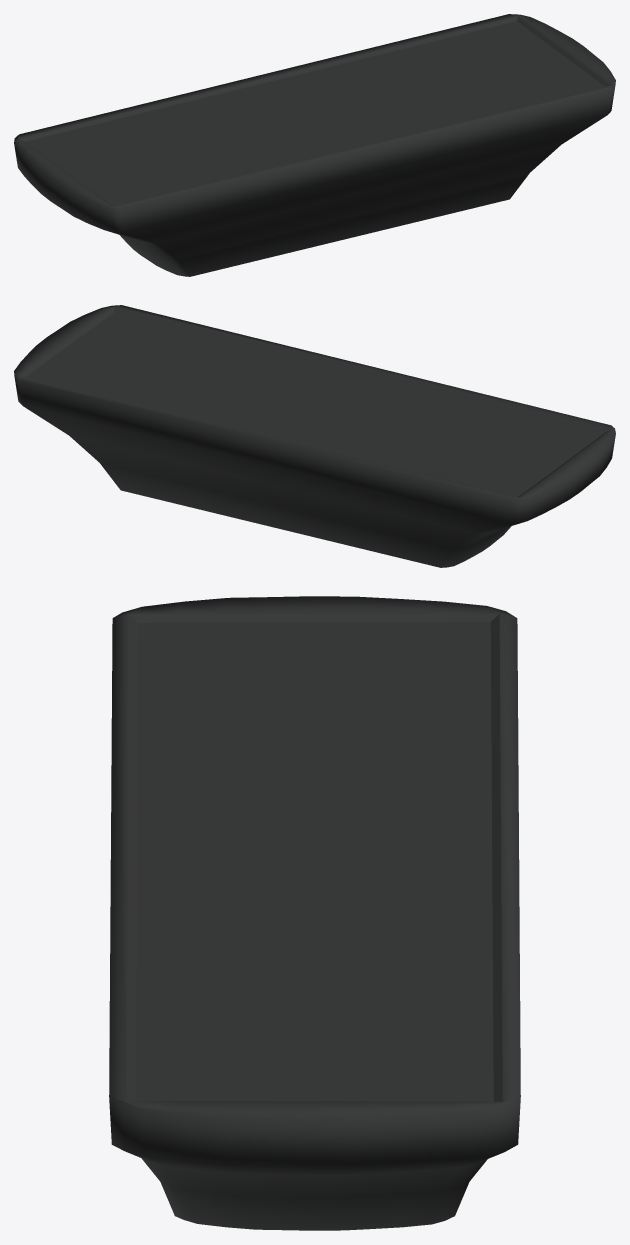
The picture shows the model from 3 angles, top to bottom: view 1: azimuth 30°, elevation 25°; view 2: azimuth 150°, elevation 25°; view 3: azimuth 270°, elevation 25°; orthographic projection. The views are drawn at different scales.
Visible parts, largest first — view 1: text_screen_Cube.002; view 2: text_screen_Cube.002; view 3: text_screen_Cube.002.
Boxes of the visible parts, <box> form: text_screen_Cube.002: <box>14,14,615,276</box>; text_screen_Cube.002: <box>14,305,615,567</box>; text_screen_Cube.002: <box>109,596,520,1230</box>.
Size of the model in its own units: 0.0768 by 0.0139 by 0.0255.
Materials: 1 (1 with a texture image).
